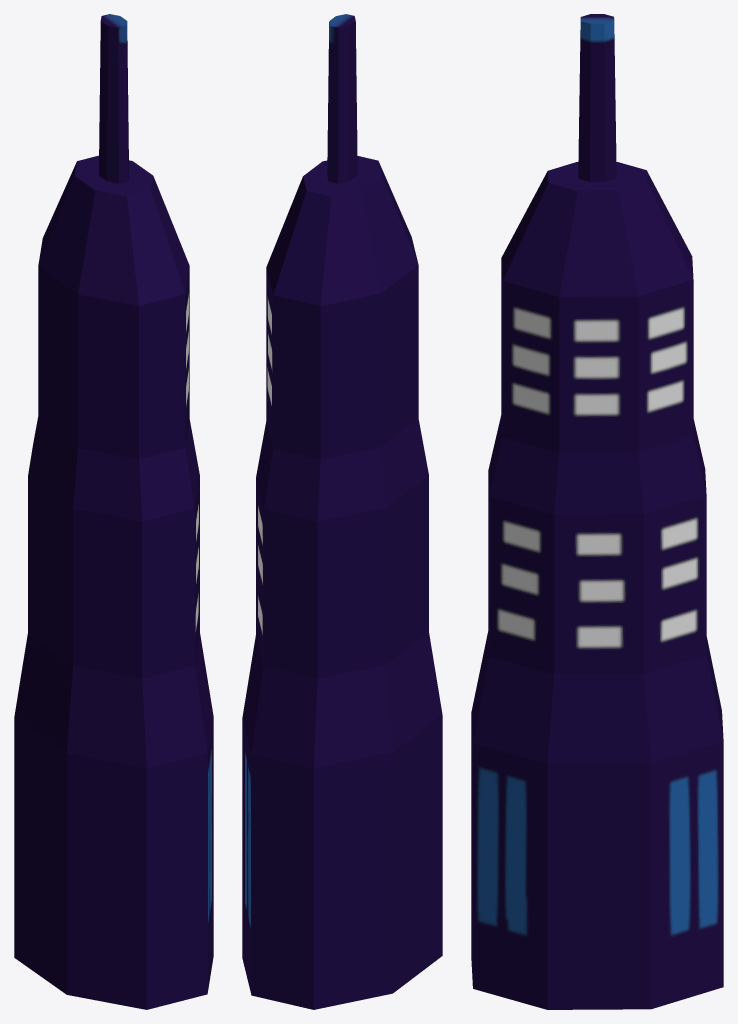
The model's file is Building7.fbx.
3 views of the same model, side by side, from view 1: azimuth 30°, elevation 25°; view 2: azimuth 150°, elevation 25°; view 3: azimuth 270°, elevation 25° (orthographic).
Visible parts, largest first — view 1: pCylinder1; view 2: pCylinder1; view 3: pCylinder1.
Part boxes in pixels (bbox=[...]): pCylinder1: bbox=[14, 14, 213, 1009]; pCylinder1: bbox=[242, 14, 442, 1009]; pCylinder1: bbox=[471, 14, 723, 1009].
Bounding box in the file's own units: 1.11 × 6.61 × 1.58.
